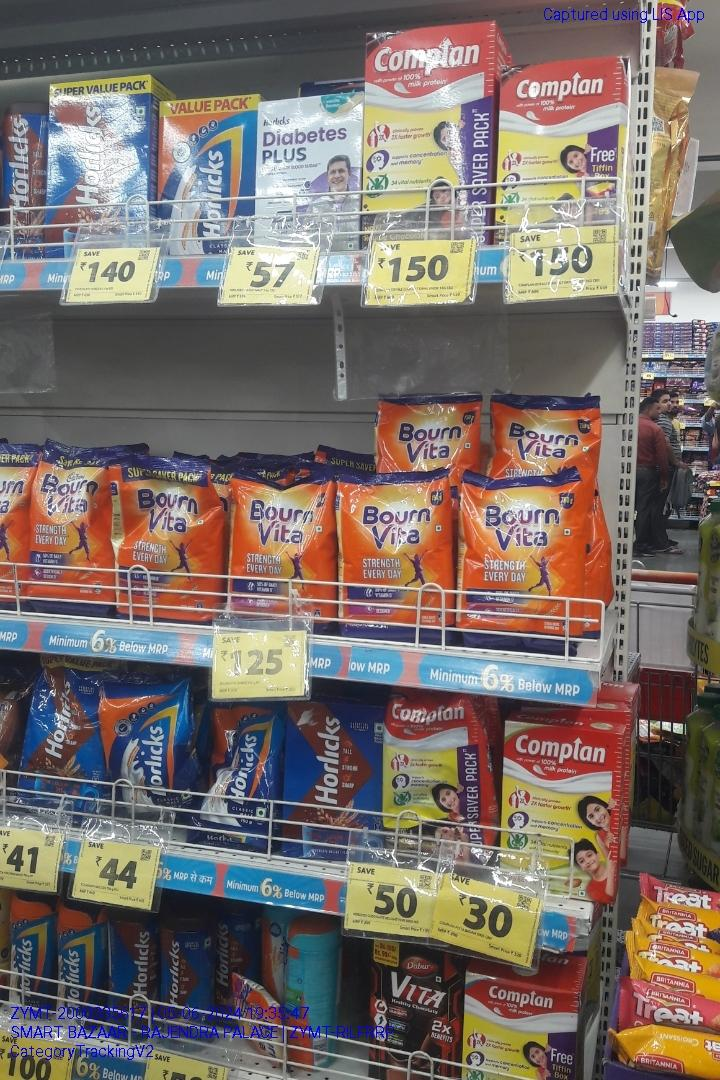BOURN_VITA_750_G_POUCH: (459, 472, 582, 653), (337, 472, 451, 644), (115, 458, 223, 628), (231, 476, 336, 634), (32, 447, 115, 617)
COMPLAN_CHOCOLATE_1_KG_PACK: (369, 33, 491, 243)
COMPLAN_CHOCOLATE_500_GMS_PACK: (497, 63, 619, 226)
COMPLAN_KESAR_BADAM_500_GMS_PACK: (505, 724, 619, 901)
HORLICK_CHOCOLATE_1_KG_PACK: (49, 82, 149, 250)
HORLICK_CHOCOLATE_500_G_PACK: (289, 701, 382, 857)
HORLICK_CHOCOLATE_750_G_POUCH: (27, 659, 111, 815)
HORLICK_CLASSIC_MALT_750_G_POUCH: (195, 699, 278, 850), (116, 700, 187, 815)
